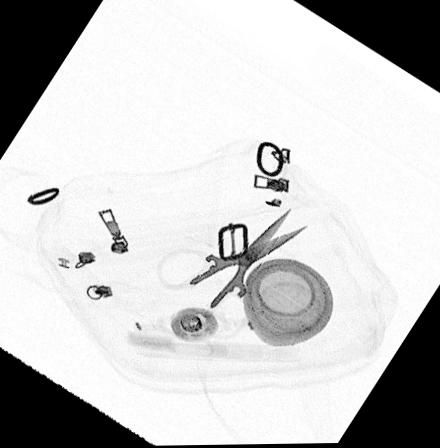Scissors: (155, 203, 309, 343)
